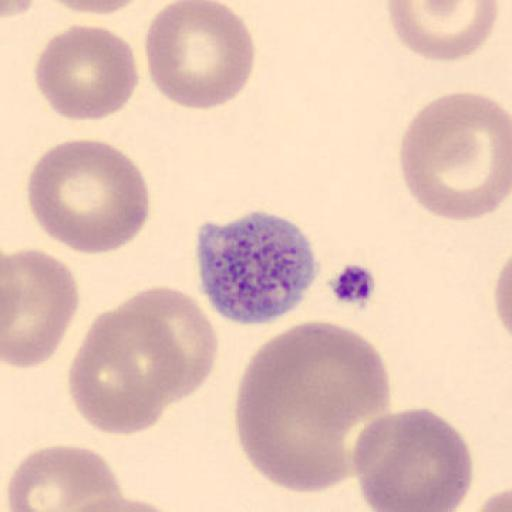Platelet: (192, 205, 324, 327), (325, 260, 380, 310)
RBC: (234, 318, 389, 494), (233, 334, 356, 500), (247, 320, 392, 437), (67, 301, 183, 437), (398, 91, 512, 222), (26, 138, 150, 256), (142, 0, 257, 111), (352, 408, 474, 512), (114, 285, 220, 398), (78, 298, 187, 406), (67, 322, 163, 436), (34, 24, 140, 124), (2, 248, 80, 370), (6, 443, 124, 512), (385, 0, 500, 65), (352, 409, 425, 511), (46, 488, 187, 512), (56, 493, 188, 512), (492, 251, 512, 344), (70, 498, 193, 512), (46, 0, 144, 17), (493, 259, 512, 338), (475, 485, 512, 512), (1, 0, 39, 20)
